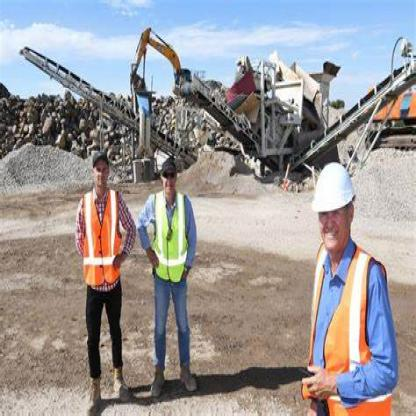person: (298, 148, 396, 415), (71, 127, 133, 415), (138, 144, 199, 396)
